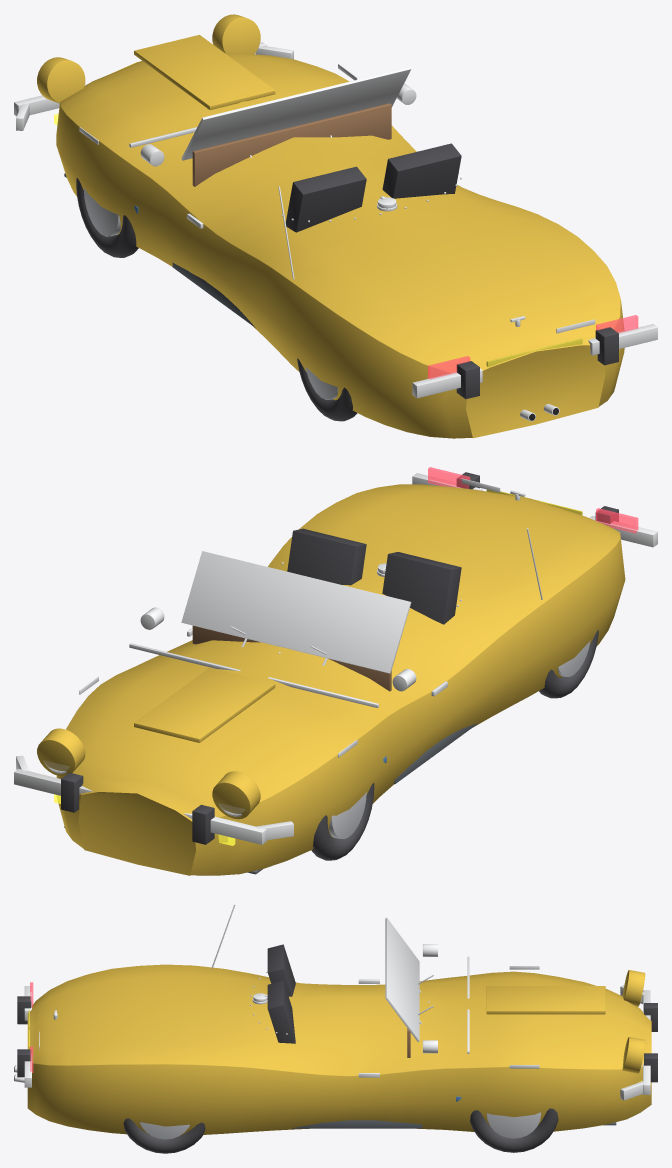
The model's file is Car_Triumph_Spitfire_1500_Complete.glb.
The picture shows the model from 3 angles, top to bottom: view 1: azimuth 30°, elevation 25°; view 2: azimuth 150°, elevation 25°; view 3: azimuth 270°, elevation 25°; orthographic projection. The views are drawn at different scales.
Visible parts, largest first — view 1: GEO_SPITFIRE_Body_Tub_Monocoque, GEO_SPITFIRE_Vinyl_Bucket_Seats, GEO_SPITFIRE_Windshield_Chrome_Frame, GEO_SPITFIRE_Bonnet_Center_Power_Bulge, GEO_SPITFIRE_Walnut_Dashboard_Facia, GEO_SPITFIRE_Headlamp_Cowl_Nacelles, GEO_SPITFIRE_Dunlop_155R13_Tires, GEO_SPITFIRE_Rear_Chrome_Bumperettes, GEO_SPITFIRE_Rear_Rubber_Impact_Blocks, GEO_SPITFIRE_13in_Rostyle_Steel_Rims, GEO_SPITFIRE_Front_Chrome_Bumper_Bar, GEO_SPITFIRE_Lucas_Rear_Taillamp_Clusters (+2 smaller); view 2: GEO_SPITFIRE_Body_Tub_Monocoque, GEO_SPITFIRE_Windshield_Chrome_Frame, GEO_SPITFIRE_Vinyl_Bucket_Seats, GEO_SPITFIRE_Bonnet_Center_Power_Bulge, GEO_SPITFIRE_Headlamp_Cowl_Nacelles, GEO_SPITFIRE_Dunlop_155R13_Tires, GEO_SPITFIRE_Front_Chrome_Bumper_Bar, GEO_SPITFIRE_Front_Rubber_Overriders, GEO_SPITFIRE_13in_Rostyle_Steel_Rims, GEO_SPITFIRE_Lucas_Rear_Taillamp_Clusters, GEO_SPITFIRE_Rear_Chrome_Bumperettes, GEO_SPITFIRE_Walnut_Dashboard_Facia (+4 smaller); view 3: GEO_SPITFIRE_Body_Tub_Monocoque, GEO_SPITFIRE_Bonnet_Center_Power_Bulge, GEO_SPITFIRE_Dunlop_155R13_Tires, GEO_SPITFIRE_Windshield_Chrome_Frame, GEO_SPITFIRE_Vinyl_Bucket_Seats, GEO_SPITFIRE_13in_Rostyle_Steel_Rims, GEO_SPITFIRE_Headlamp_Cowl_Nacelles, GEO_SPITFIRE_Chassis_Tubular_Outriggers, GEO_SPITFIRE_Front_Chrome_Bumper_Bar, GEO_SPITFIRE_Rear_Rubber_Impact_Blocks, GEO_SPITFIRE_Front_Rubber_Overriders, GEO_SPITFIRE_Bullet_Chrome_Mirrors (+1 smaller).
Boxes of the visible parts, x1,y1,x2,y2 form: GEO_SPITFIRE_Body_Tub_Monocoque: (56, 53, 624, 438); GEO_SPITFIRE_Vinyl_Bucket_Seats: (285, 143, 461, 232); GEO_SPITFIRE_Windshield_Chrome_Frame: (181, 67, 411, 160); GEO_SPITFIRE_Bonnet_Center_Power_Bulge: (134, 35, 275, 109); GEO_SPITFIRE_Walnut_Dashboard_Facia: (192, 103, 391, 186); GEO_SPITFIRE_Headlamp_Cowl_Nacelles: (37, 14, 260, 103); GEO_SPITFIRE_Dunlop_155R13_Tires: (76, 178, 357, 421); GEO_SPITFIRE_Rear_Chrome_Bumperettes: (412, 324, 657, 398); GEO_SPITFIRE_Rear_Rubber_Impact_Blocks: (456, 327, 618, 399); GEO_SPITFIRE_13in_Rostyle_Steel_Rims: (84, 188, 337, 399); GEO_SPITFIRE_Front_Chrome_Bumper_Bar: (14, 42, 293, 130); GEO_SPITFIRE_Lucas_Rear_Taillamp_Clusters: (428, 315, 638, 379); GEO_SPITFIRE_Body_Tub_Monocoque: (56, 484, 625, 875); GEO_SPITFIRE_Windshield_Chrome_Frame: (181, 551, 411, 673); GEO_SPITFIRE_Vinyl_Bucket_Seats: (287, 528, 461, 624); GEO_SPITFIRE_Bonnet_Center_Power_Bulge: (134, 667, 275, 742); GEO_SPITFIRE_Headlamp_Cowl_Nacelles: (37, 728, 260, 819); GEO_SPITFIRE_Dunlop_155R13_Tires: (311, 630, 598, 860); GEO_SPITFIRE_Front_Chrome_Bumper_Bar: (14, 755, 293, 844); GEO_SPITFIRE_Front_Rubber_Overriders: (61, 772, 214, 844); GEO_SPITFIRE_13in_Rostyle_Steel_Rims: (329, 640, 590, 839); GEO_SPITFIRE_Lucas_Rear_Taillamp_Clusters: (428, 467, 638, 533); GEO_SPITFIRE_Rear_Chrome_Bumperettes: (412, 473, 657, 547); GEO_SPITFIRE_Walnut_Dashboard_Facia: (192, 625, 391, 691); GEO_SPITFIRE_Body_Tub_Monocoque: (27, 964, 651, 1135); GEO_SPITFIRE_Bonnet_Center_Power_Bulge: (486, 986, 605, 1014); GEO_SPITFIRE_Dunlop_155R13_Tires: (123, 1108, 558, 1153); GEO_SPITFIRE_Windshield_Chrome_Frame: (385, 918, 419, 1041); GEO_SPITFIRE_Vinyl_Bucket_Seats: (267, 944, 295, 1043); GEO_SPITFIRE_13in_Rostyle_Steel_Rims: (139, 1112, 540, 1139); GEO_SPITFIRE_Headlamp_Cowl_Nacelles: (622, 970, 645, 1073); GEO_SPITFIRE_Chassis_Tubular_Outriggers: (292, 1120, 422, 1128); GEO_SPITFIRE_Front_Chrome_Bumper_Bar: (620, 985, 650, 1100); GEO_SPITFIRE_Rear_Rubber_Impact_Blocks: (17, 996, 31, 1077); GEO_SPITFIRE_Front_Rubber_Overriders: (644, 1003, 657, 1082); GEO_SPITFIRE_Bullet_Chrome_Mirrors: (423, 944, 437, 1053).
Bounding box in the file's own units: 1.52 × 1.05 × 3.9.
